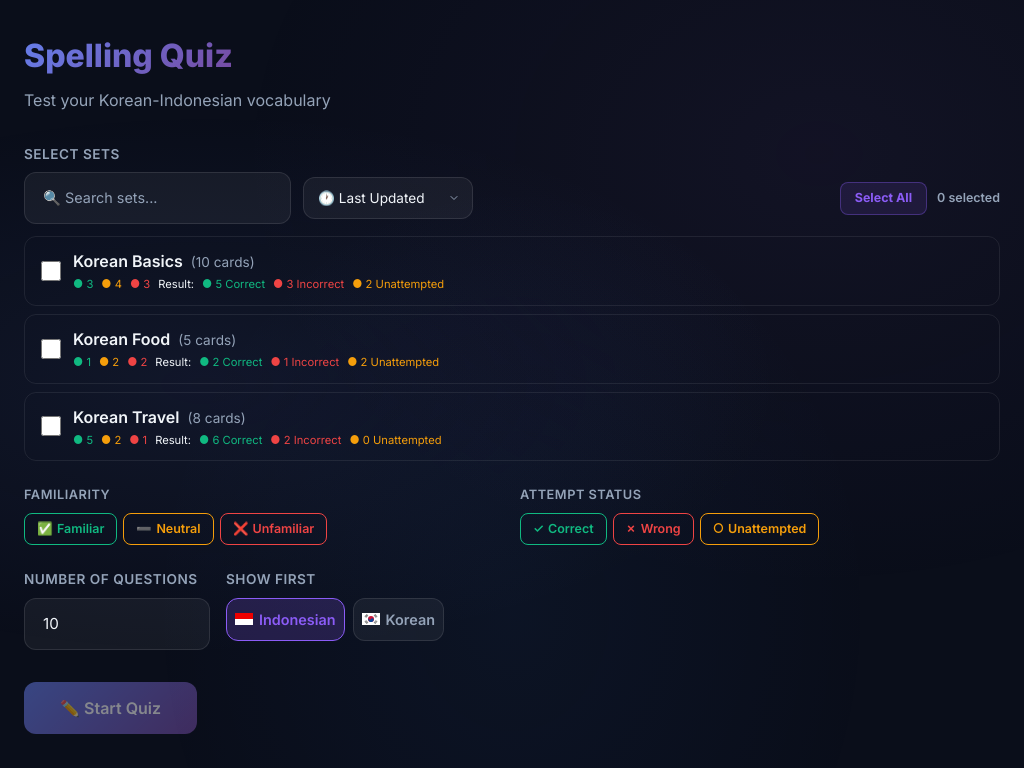
Test: SpellingQuiz › Setup screen › shows Select All / Deselect All buttons work
Expected: the text "Korean Basics" is shown, 73,251 -> 183,271
What coordinates should you click on to do the following:
click the button "Select All"
I would click on:
 (883, 198)
Its box is 840,182 -> 927,214.
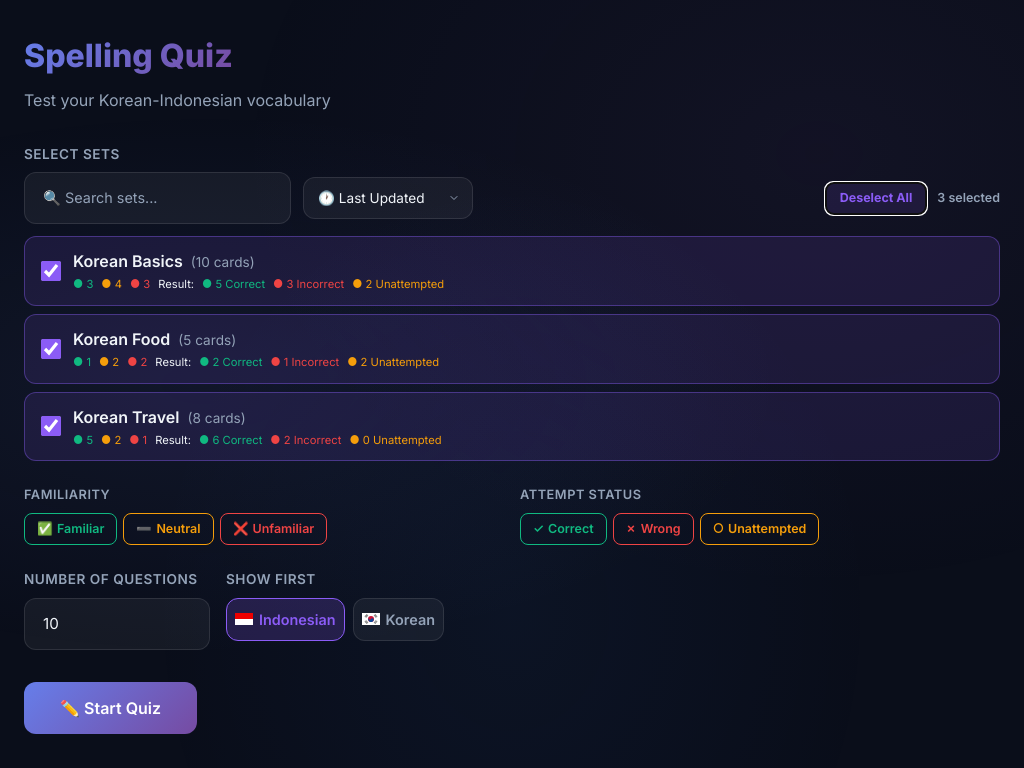
Result: the 1st checkbox is checked at 41,261 -> 61,281
Result: the 2nd checkbox is checked at 41,339 -> 61,359
Result: the 3rd checkbox is checked at 41,416 -> 61,436
What coordinates should you click on to do the following:
click the button "Deselect All"
I would click on:
 (876, 198)
Its box is 825,182 -> 927,214.
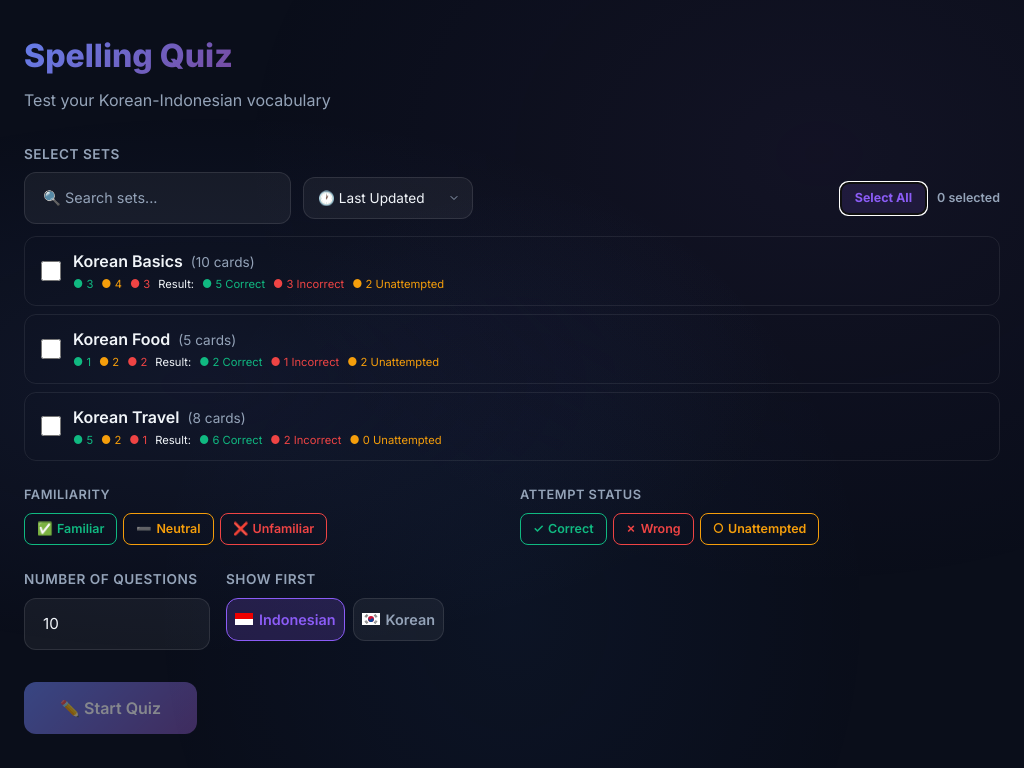
Result: the 1st checkbox is not checked at 41,261 -> 61,281
Result: the 2nd checkbox is not checked at 41,339 -> 61,359
Result: the 3rd checkbox is not checked at 41,416 -> 61,436
